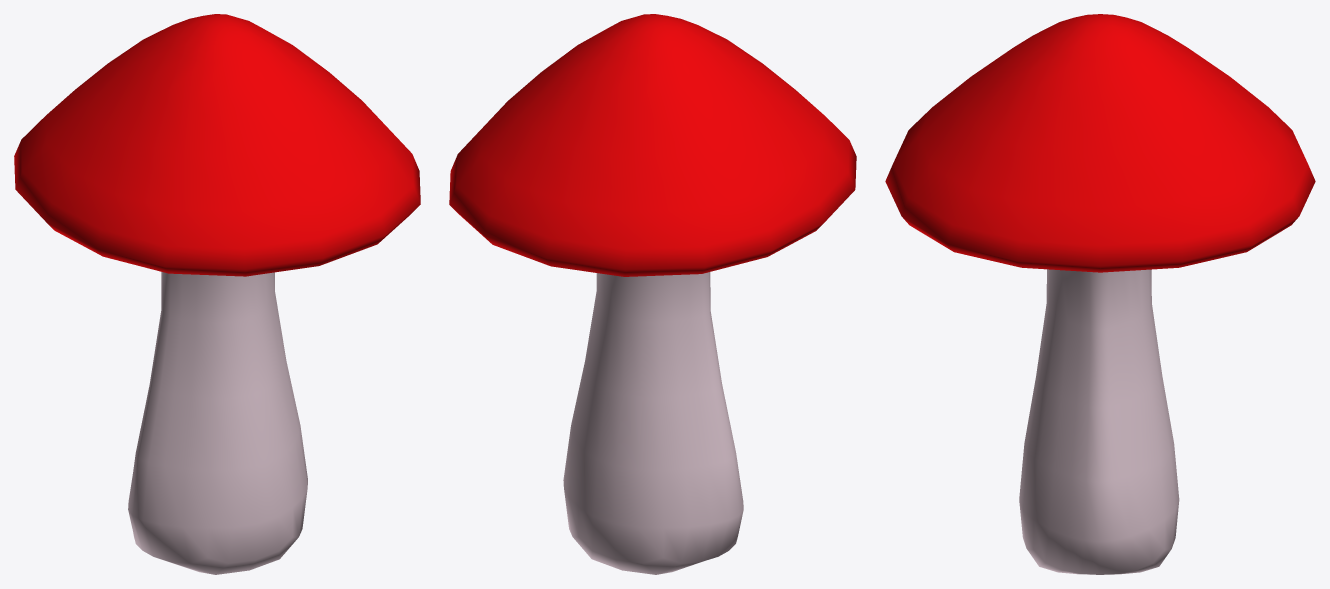
The model's file is toadstool.fbx.
3 renders of one model, left to right at view 1: azimuth 30°, elevation 25°; view 2: azimuth 150°, elevation 25°; view 3: azimuth 270°, elevation 25°, orthographic.
Visible parts, largest first — view 1: Cylinder.001; view 2: Cylinder.001; view 3: Cylinder.001.
Part boxes in pixels (x1,y1,x2,y2): Cylinder.001: (14, 14, 420, 574); Cylinder.001: (449, 14, 856, 574); Cylinder.001: (885, 14, 1315, 574).
Size of the model in its own units: 268 by 395 by 288.
